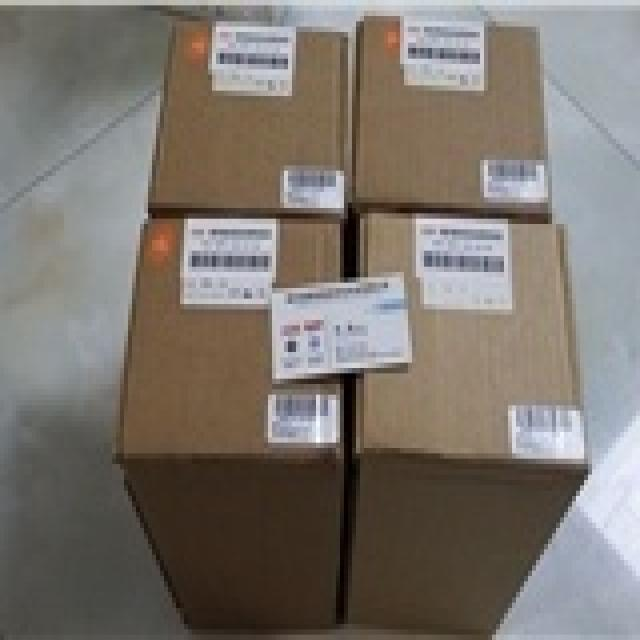box: (340, 213, 592, 640), (112, 213, 344, 640), (148, 16, 348, 219), (352, 21, 552, 213)
